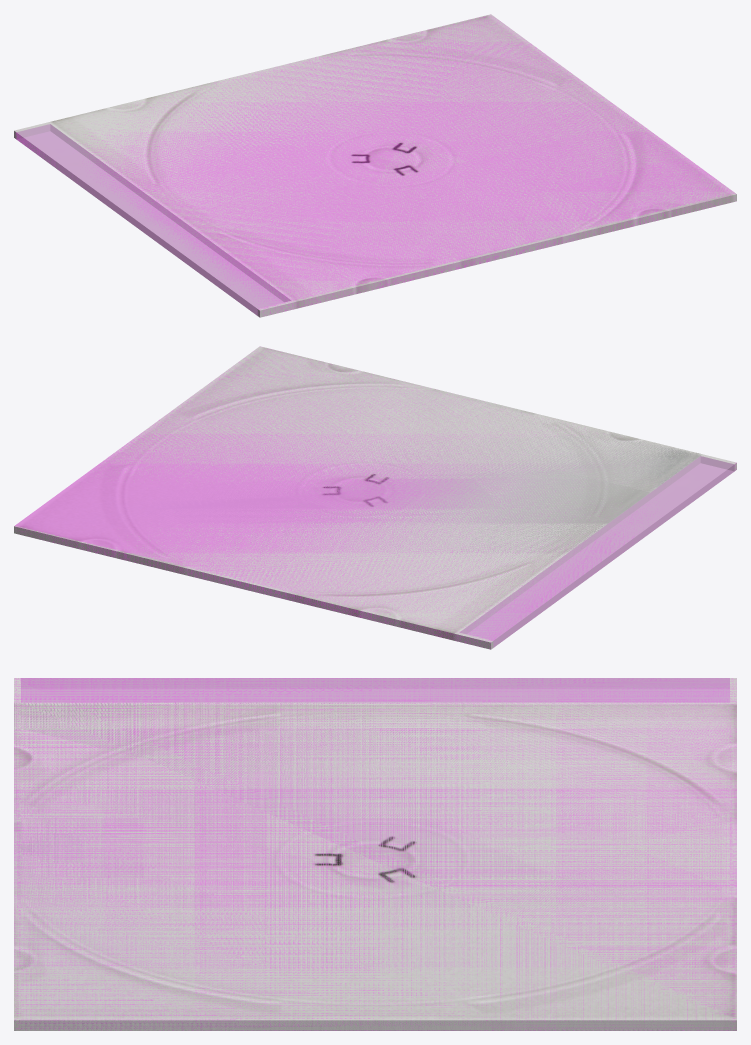
The model's file is CD_empty.fbx.
3 views of the same model, one above another, from view 1: azimuth 30°, elevation 25°; view 2: azimuth 150°, elevation 25°; view 3: azimuth 270°, elevation 25° (orthographic). The views are drawn at different scales.
Visible parts, largest first — view 1: CD_A, boundingbox, CD_A_huta; view 2: CD_A, CD_A_huta, boundingbox; view 3: CD_A, CD_A_huta, boundingbox.
Part boxes in pixels (x1,y1,x2,y2): CD_A: (14, 14, 736, 317); boundingbox: (16, 17, 733, 314); CD_A_huta: (16, 124, 290, 315); CD_A: (14, 346, 736, 649); CD_A_huta: (63, 351, 734, 647); boundingbox: (15, 358, 735, 646); CD_A: (14, 678, 736, 1030); CD_A_huta: (14, 678, 736, 1030); boundingbox: (14, 678, 736, 1030).
Bounding box in the file's own units: 14 × 0.2 × 12.5.
3 materials, 2 textured.
